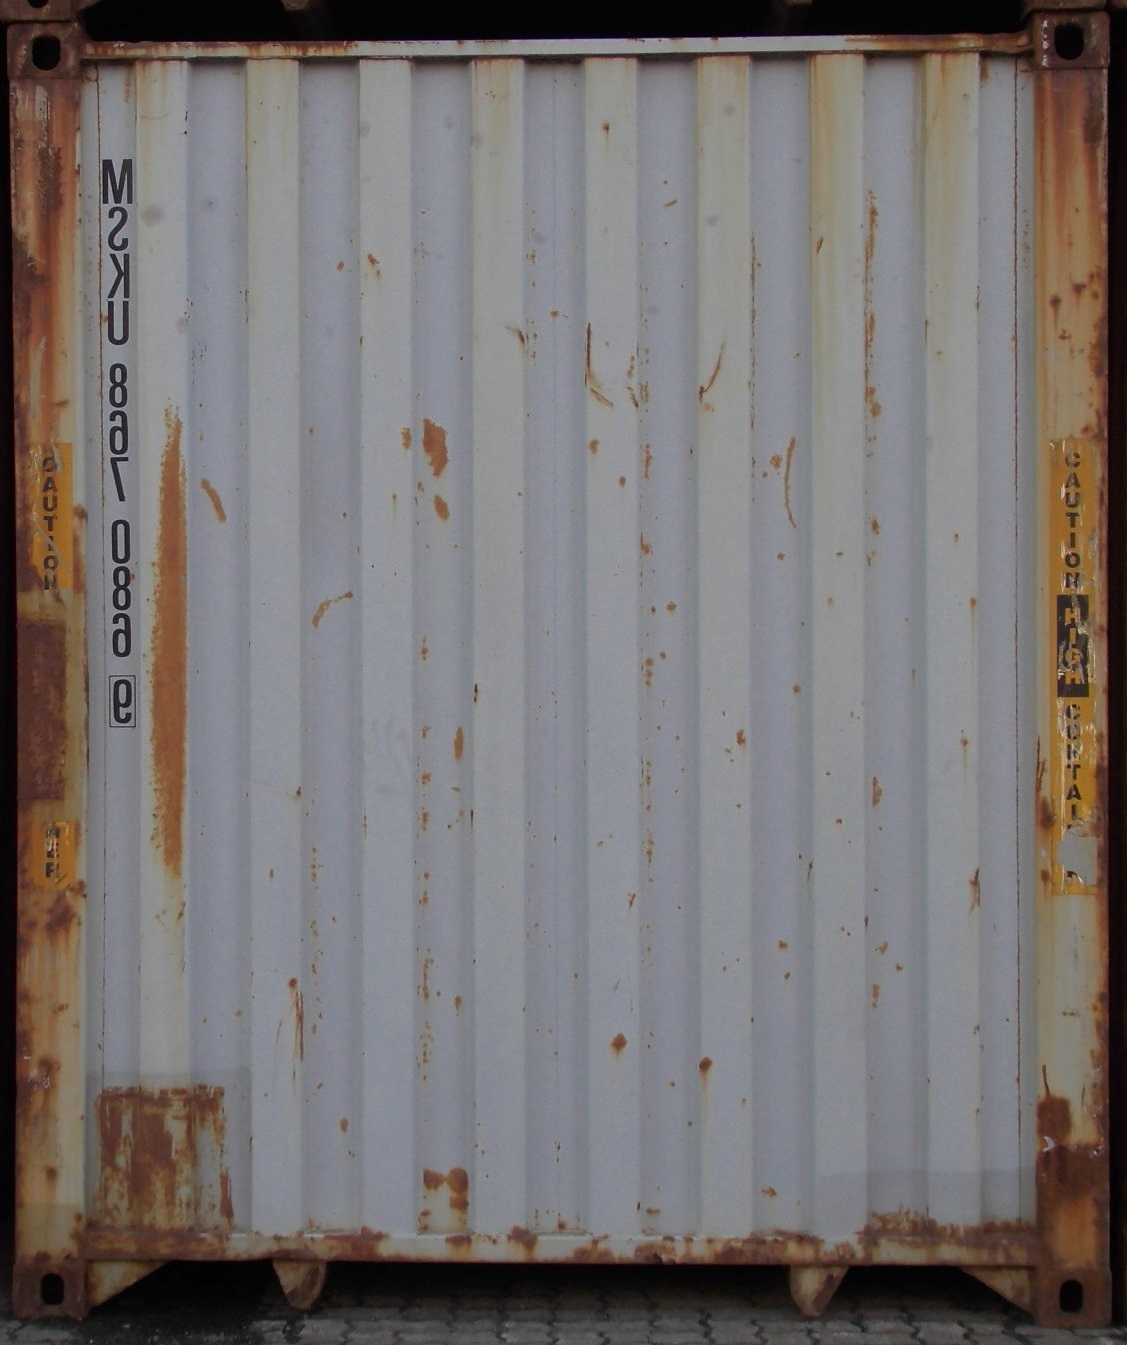container_no_door: (11, 15, 1096, 1303)
